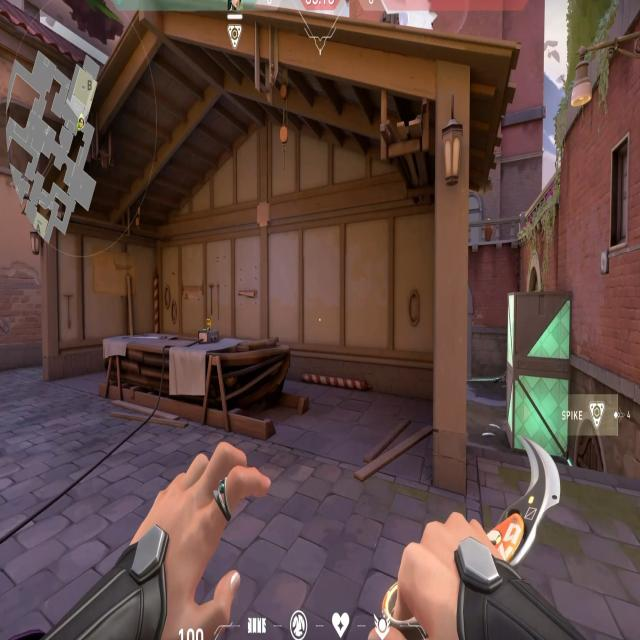B_Garage_Left: (28, 215, 228, 449)
